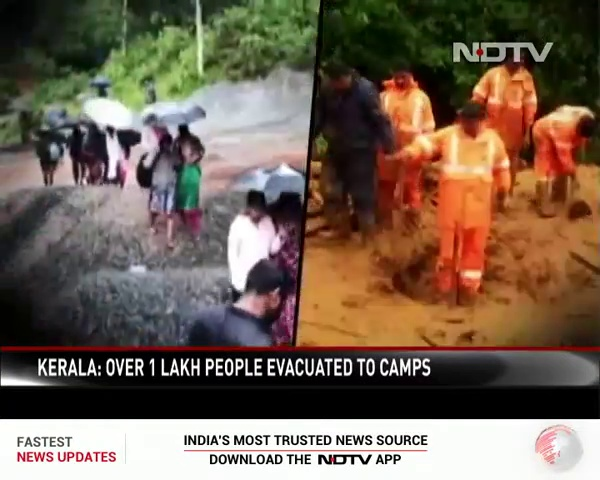person: (421, 107, 509, 304), (315, 56, 373, 249), (189, 270, 298, 356), (474, 57, 526, 194), (537, 94, 594, 217), (382, 56, 421, 226), (227, 193, 270, 265), (178, 124, 208, 226), (151, 133, 175, 245), (270, 189, 300, 253), (32, 124, 56, 186), (70, 124, 83, 180)
